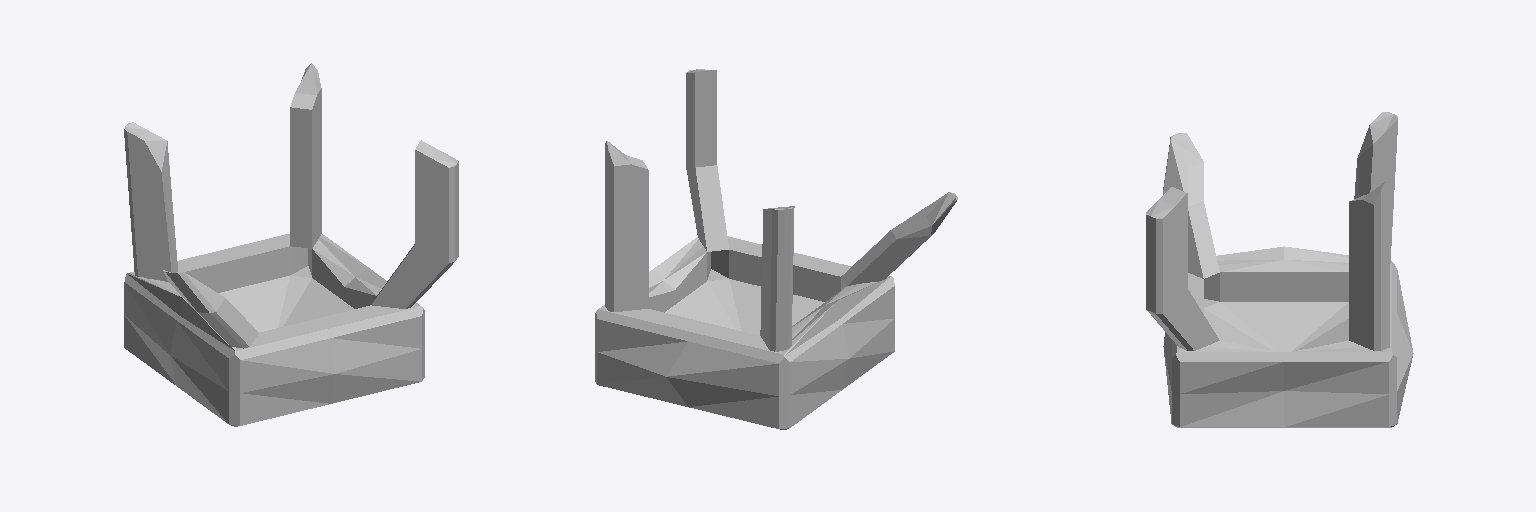
File: Battery-Type-0-Debris-Frame-Lower.obj
The picture shows the model from 3 angles: view 1: azimuth 30°, elevation 25°; view 2: azimuth 150°, elevation 25°; view 3: azimuth 270°, elevation 25°; orthographic projection.
Visible parts, largest first — view 1: Battery-Type-0-Debris-Frame-Lower; view 2: Battery-Type-0-Debris-Frame-Lower; view 3: Battery-Type-0-Debris-Frame-Lower.
Part boxes in pixels (x1,y1,x2,y2): Battery-Type-0-Debris-Frame-Lower: (124,63,458,426); Battery-Type-0-Debris-Frame-Lower: (595,69,957,429); Battery-Type-0-Debris-Frame-Lower: (1146,112,1413,427).
Bounding box in the file's own units: 1.01 × 0.875 × 0.8278.